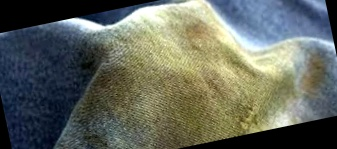earth: (96, 0, 288, 149)
